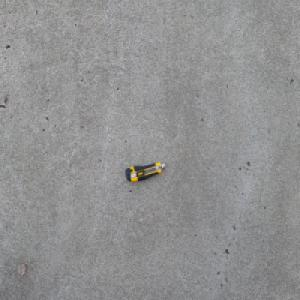Cutter: (124, 161, 165, 182)
